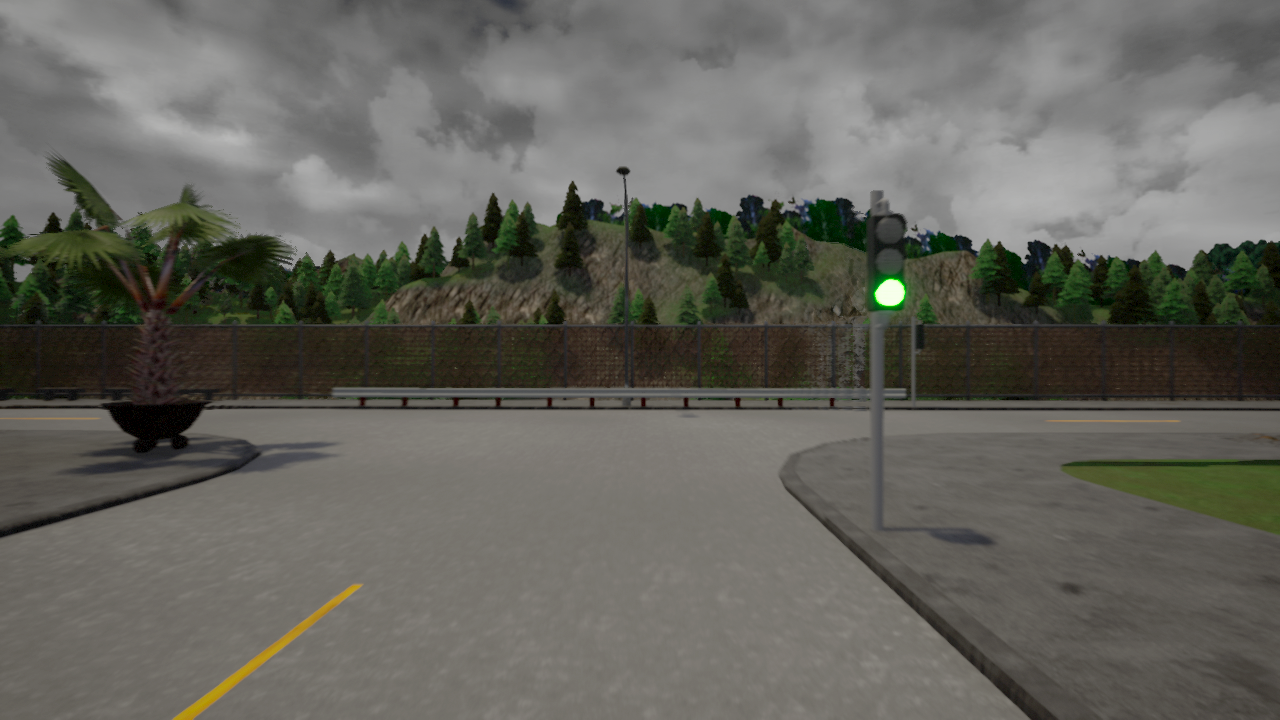green: (866, 209, 908, 310)
